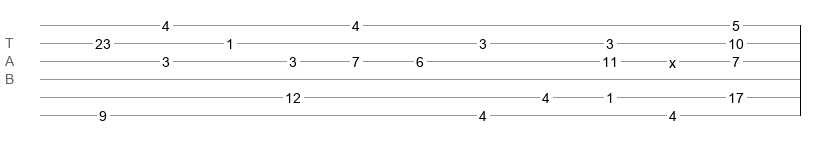1: (226, 36, 234, 46), (606, 90, 614, 100)
10: (728, 36, 744, 46)
11: (602, 54, 618, 64)
12: (285, 90, 301, 100)
17: (728, 90, 744, 100)
23: (95, 36, 111, 46)
3: (162, 54, 170, 64), (289, 54, 297, 64), (479, 36, 487, 46), (606, 36, 614, 46)
4: (162, 18, 170, 28), (352, 18, 360, 28), (479, 108, 487, 118), (542, 90, 550, 100), (669, 108, 677, 118)
5: (732, 18, 740, 28)
6: (416, 54, 424, 64)
7: (352, 54, 360, 64), (732, 54, 740, 64)
9: (99, 108, 107, 118)
x: (669, 55, 676, 63)
